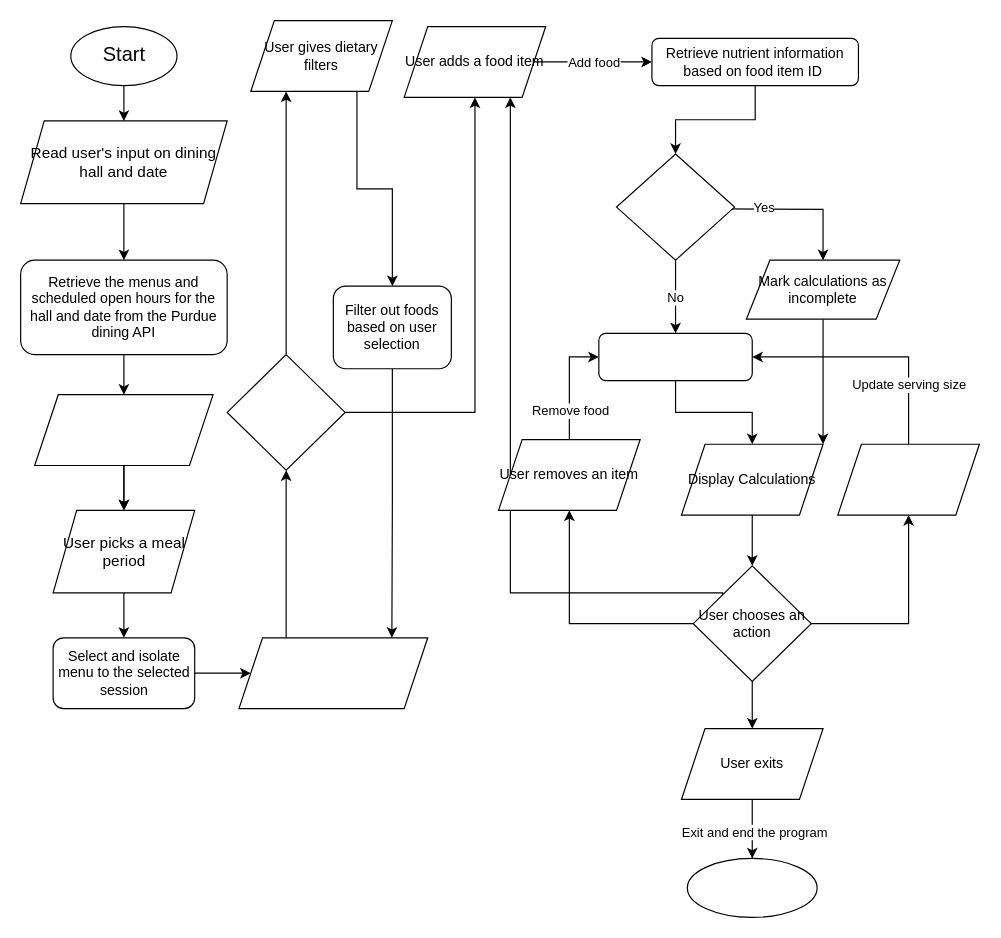
The diagram is 1001 pixels wide and 938 high, and some of its shapes have lost their labels. The shapes that lost their labels are listed below. From the top down, each one's box as (x1, y1, x2, y2) in pixels, then its label:
(615, 153, 735, 260): Incomplete information
(598, 332, 752, 381): Update calculations on total nutrients
(34, 394, 213, 466): Display scheduled open hours
(226, 353, 345, 470): User makes a choice
(837, 443, 979, 515): User changes serving size
(238, 637, 428, 709): Display menu
(686, 857, 817, 917): End
